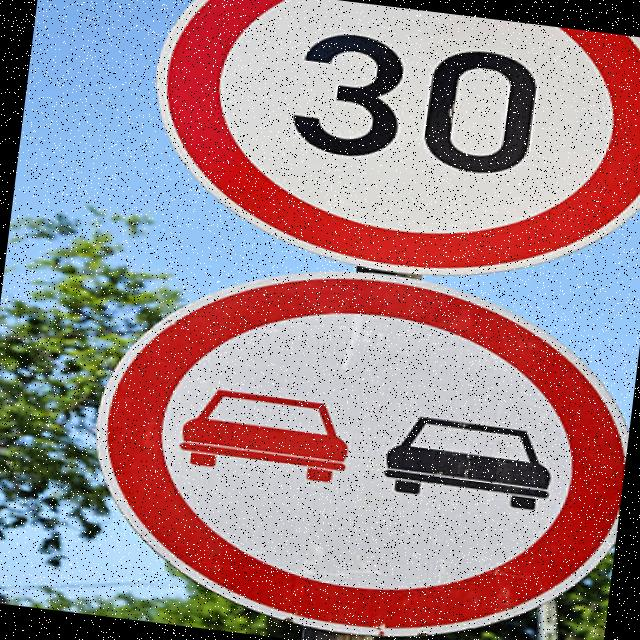no_passing: (69, 238, 640, 640)
